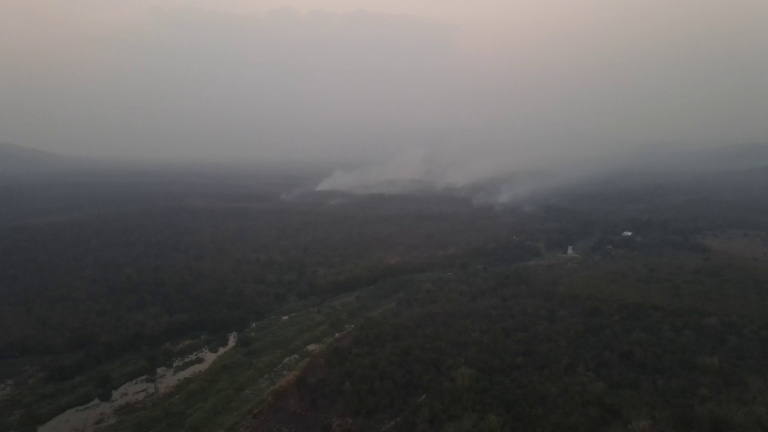smoke: (309, 123, 561, 212)
